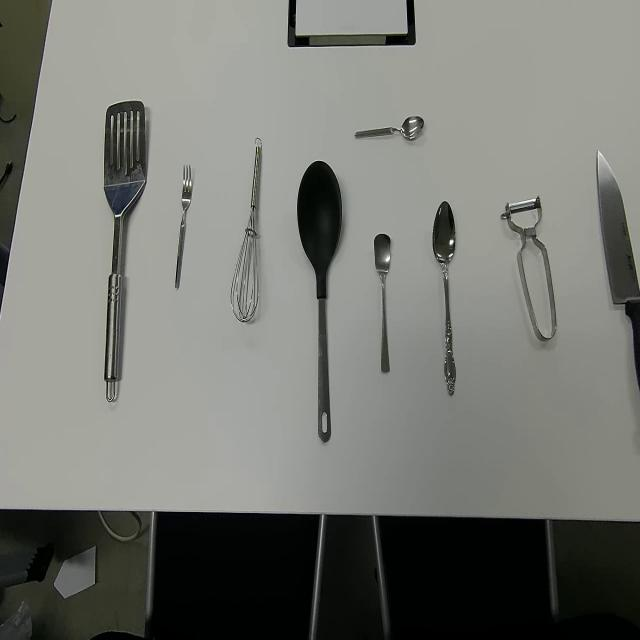Desert-Spoon: (432, 199, 456, 399)
Dinner-Fork: (173, 162, 193, 292)
Kitchen-Knife: (595, 148, 640, 398)
Peeler: (500, 194, 558, 342)
Serving-Spoon: (102, 98, 147, 404), (296, 159, 344, 445)
Tea-Spoon: (372, 232, 392, 376), (353, 114, 425, 143)
Whisk: (229, 135, 262, 324)
